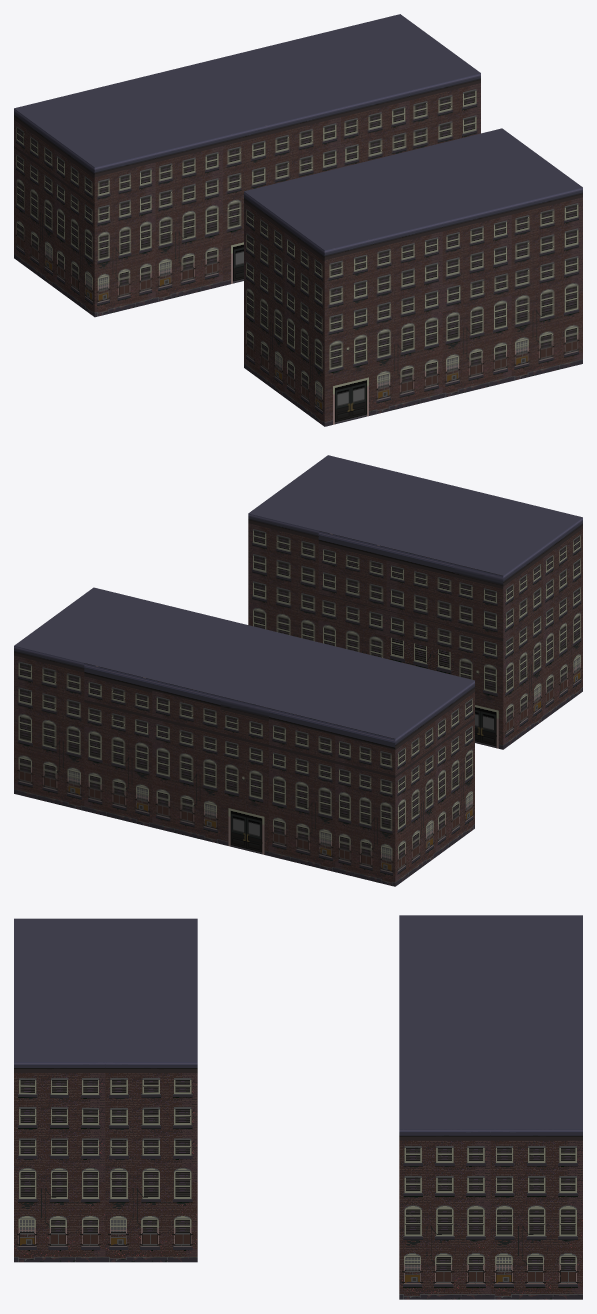
The model's file is industrial1.glb.
3 views of the same model, one above another, from view 1: azimuth 30°, elevation 25°; view 2: azimuth 150°, elevation 25°; view 3: azimuth 270°, elevation 25° (orthographic). The views are drawn at different scales.
Parts seen in each view (by area): view 1: industrial2, industrial; view 2: industrial, industrial2; view 3: industrial, industrial2.
Part boxes in pixels (<box>): industrial2: <box>244,128,582,426</box>; industrial: <box>14,14,480,317</box>; industrial: <box>14,587,474,886</box>; industrial2: <box>248,455,582,749</box>; industrial: <box>399,915,582,1299</box>; industrial2: <box>14,918,197,1262</box>.
Size of the model in its own units: 26.19 by 11.43 by 29.4.
Materials: 2 (2 with a texture image).
